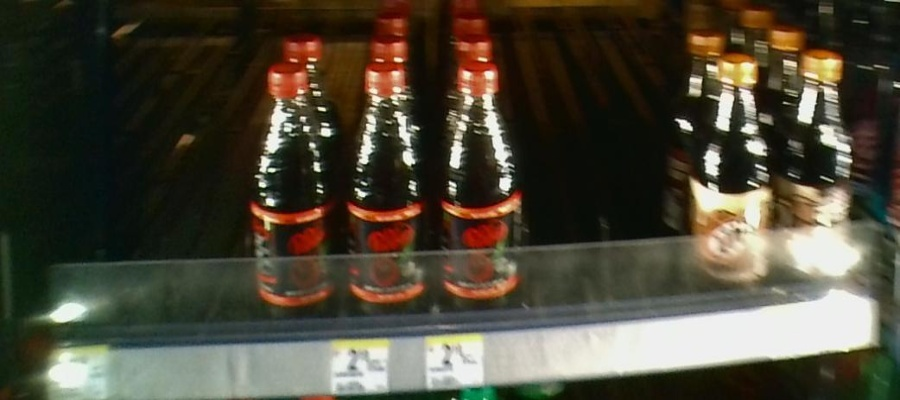bottle: (247, 54, 339, 335), (434, 60, 526, 328), (342, 53, 431, 330), (680, 54, 779, 301), (783, 49, 855, 301)
